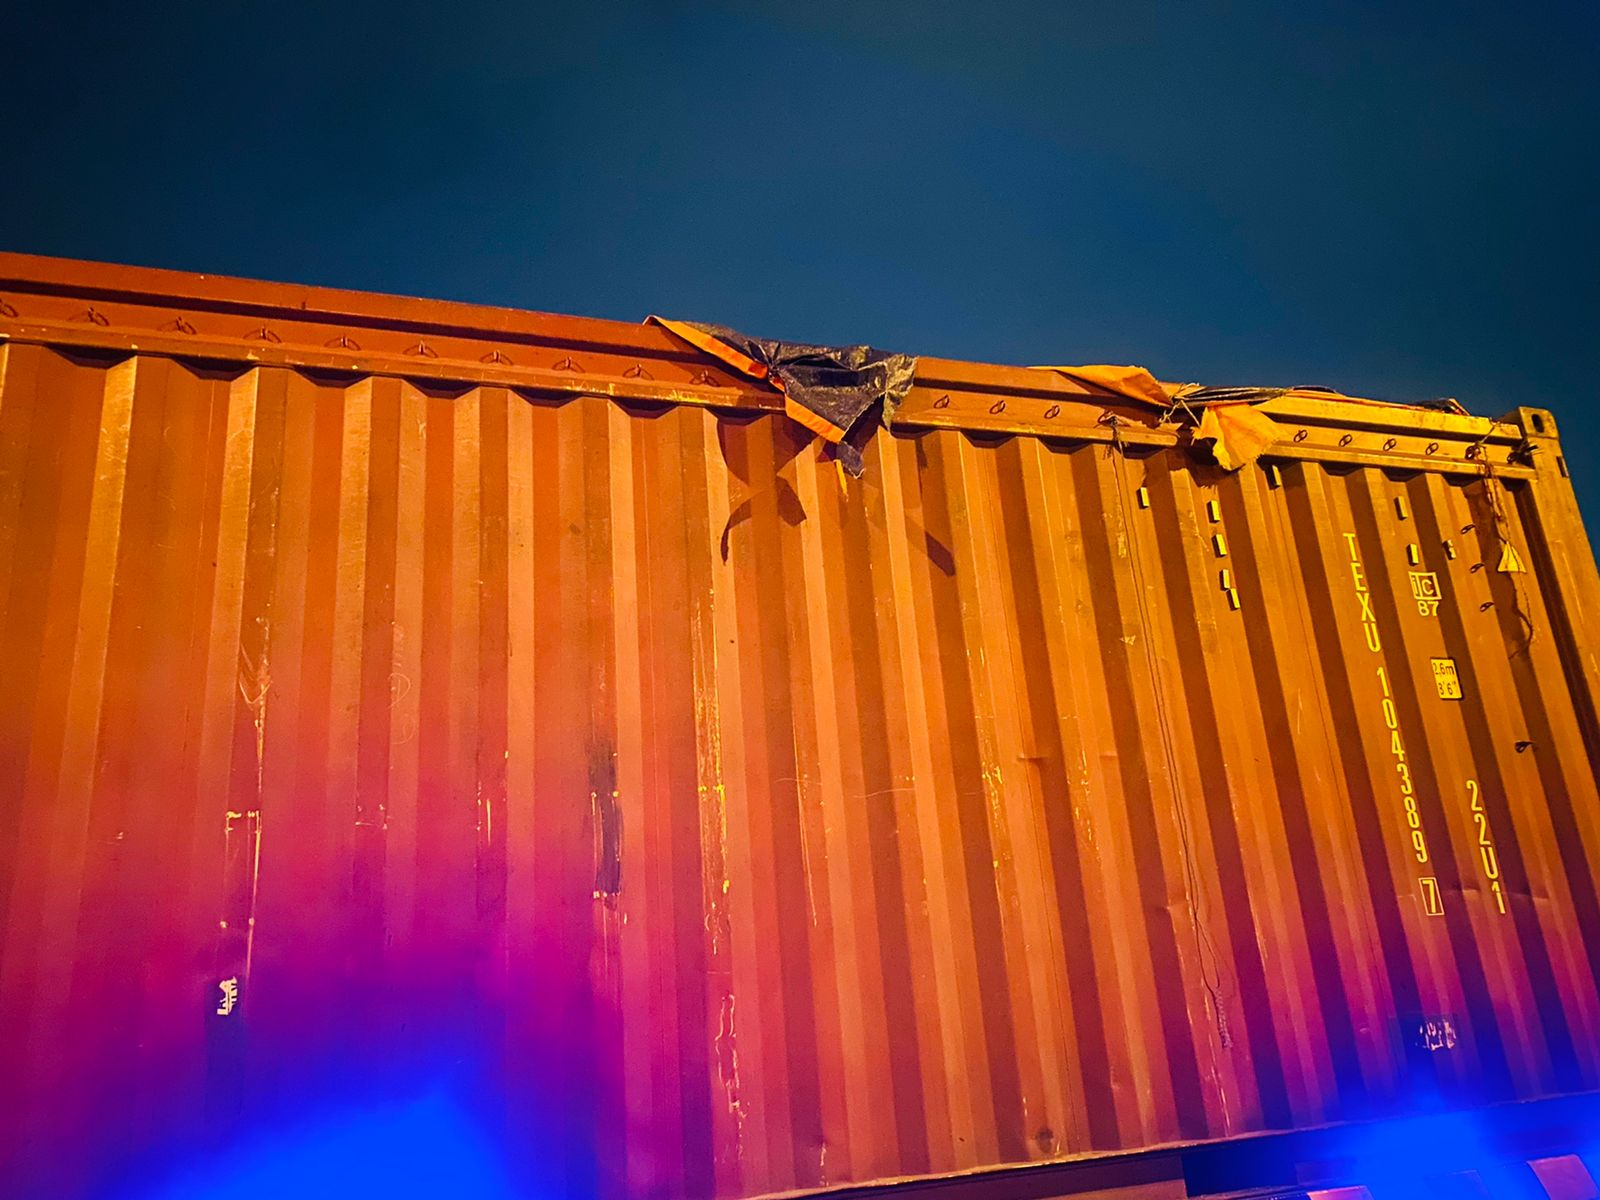dented: (1004, 732, 1128, 771)
